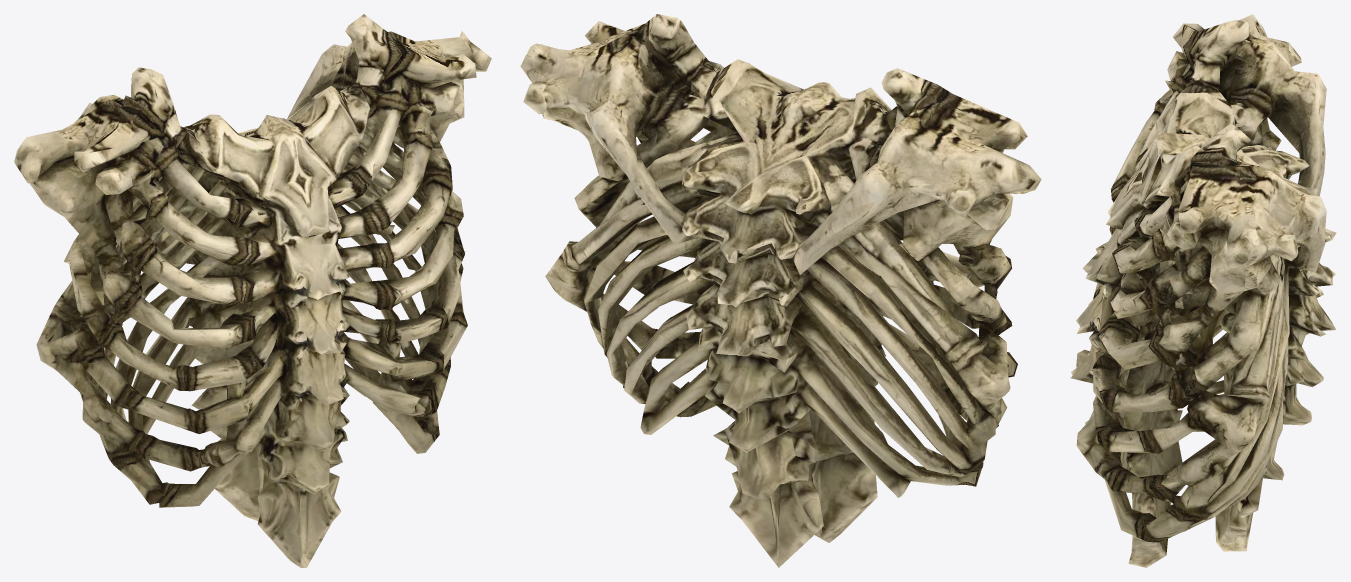
The model's file is Bone_Chest_Armor.glb.
The picture shows the model from 3 angles, left to right: view 1: azimuth 30°, elevation 25°; view 2: azimuth 150°, elevation 25°; view 3: azimuth 270°, elevation 25°; orthographic projection. The views are drawn at different scales.
Bounding box in the file's own units: 1.9 × 1.9 × 0.9238.
1 material, 1 textured.
